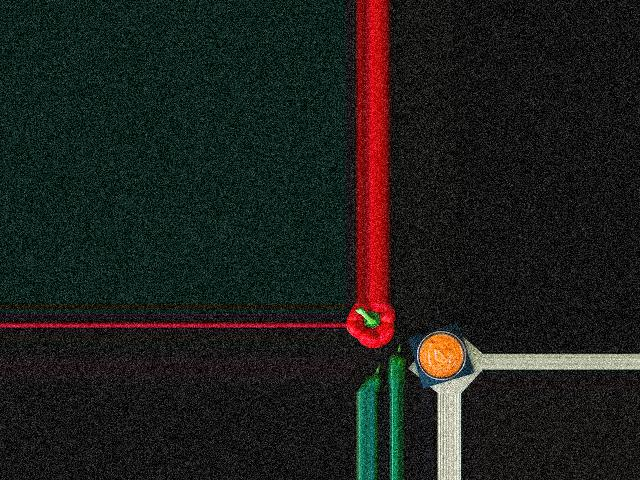bell_pepper: (347, 302, 395, 346)
